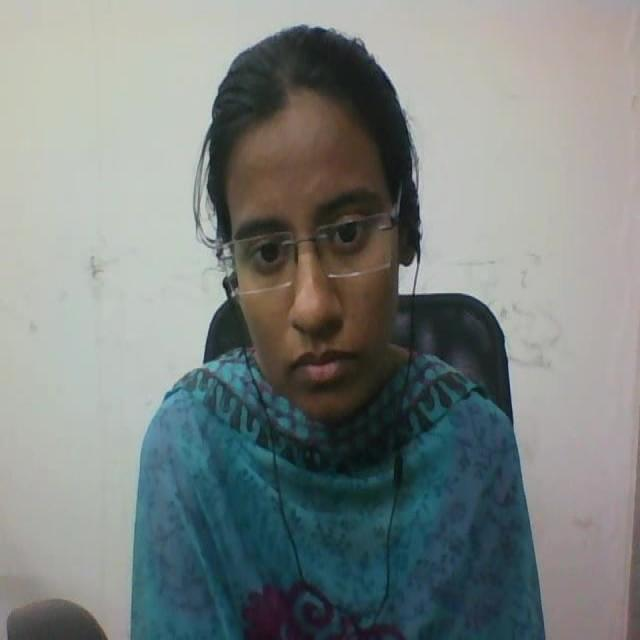Engaged: (166, 27, 466, 416)
